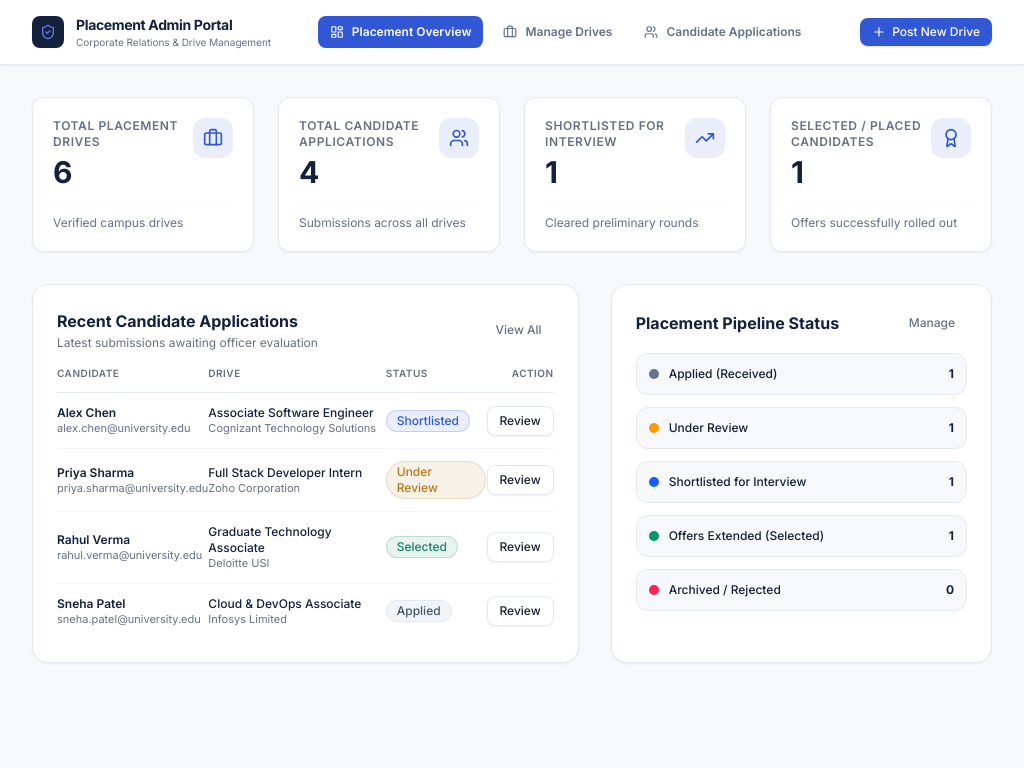
Test: Admin Dashboard Component Tests › switches to Candidate Applications tab and filters candidate list
The image size is (1024, 768).
Click the button "Candidate Applications" at (723, 32), box top-left (632, 16), bottom-right (813, 48)
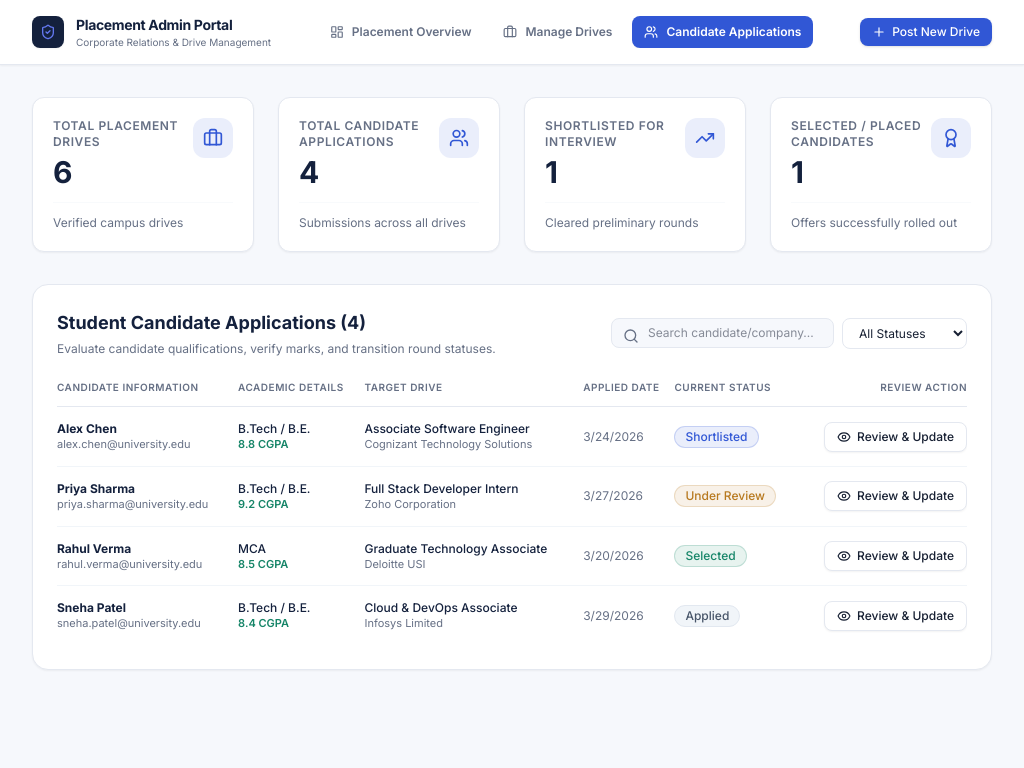
Check: the text "Alex Chen" is shown, box top-left (57, 421), bottom-right (117, 436)
Check: the heading "Student Candidate Applications (4)" is shown, box top-left (57, 312), bottom-right (366, 333)
